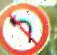Don't turn left: (3, 3, 50, 54)
